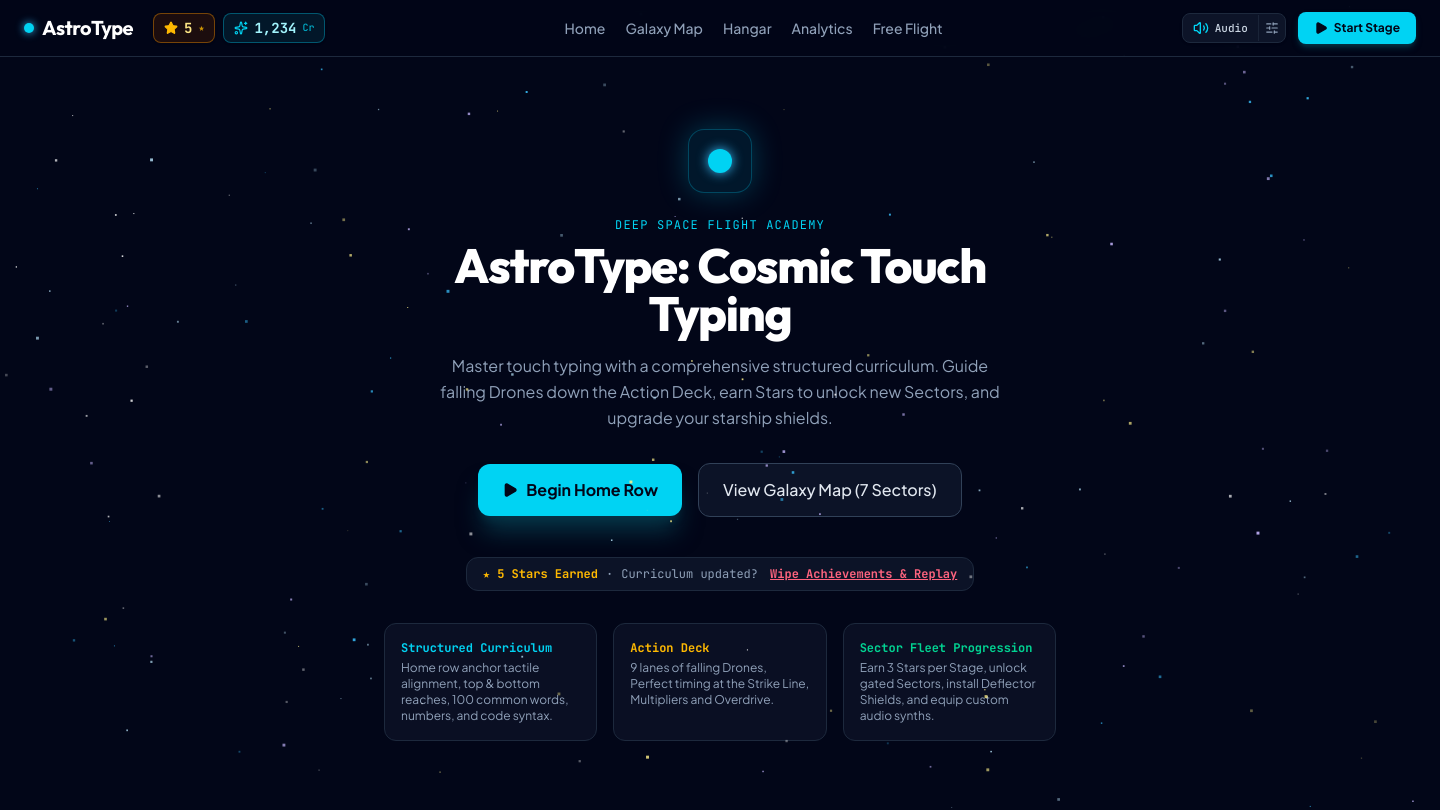
Test: Mute All Audio › mutes from the header, shows Muted in the panel, and Unmute brings the volumes back
The width and height of the screenshot is (1440, 810).
Click the button named "Open Audio Flight Deck Settings".
click(1271, 28)  # box x1=1258 y1=15 x2=1285 y2=41
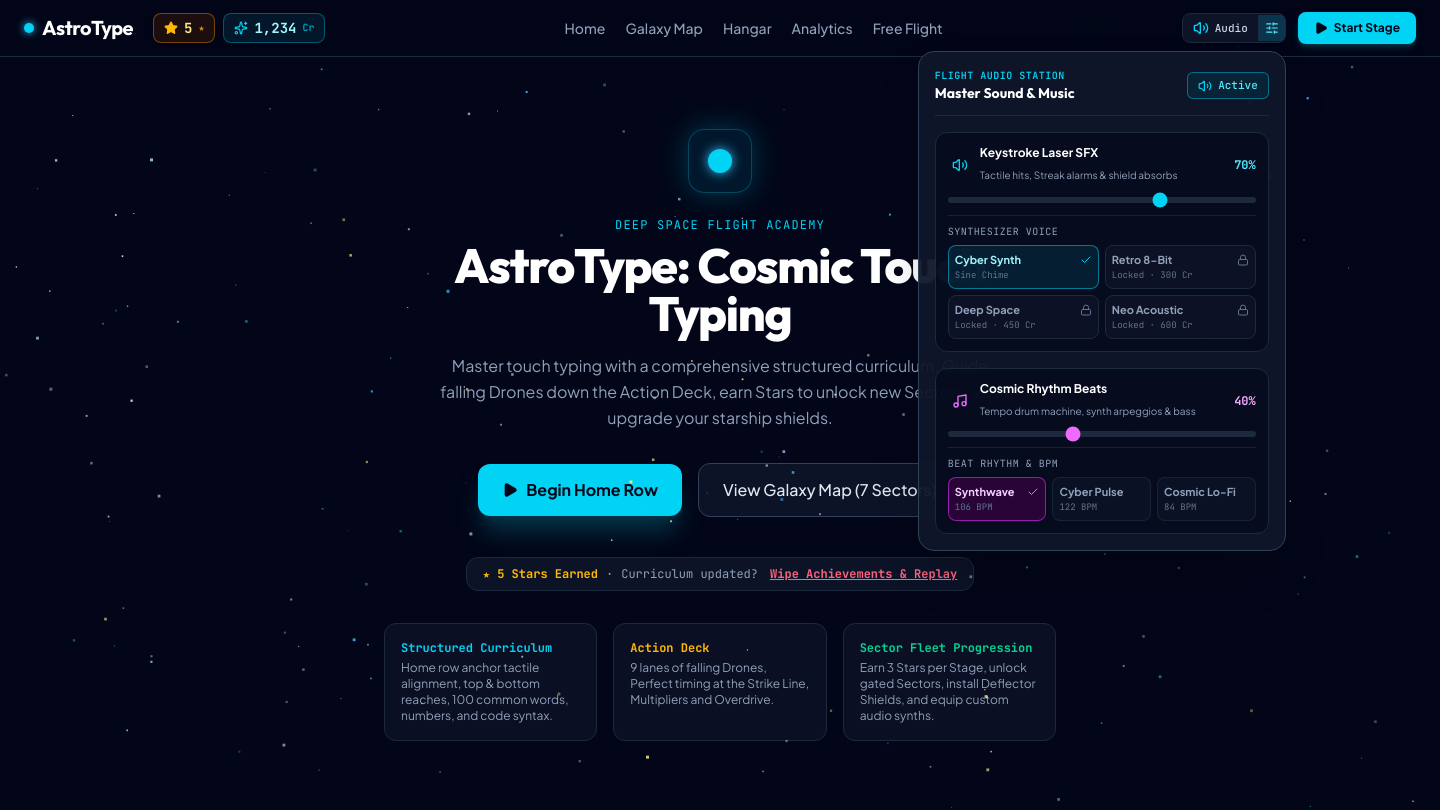
Click the button with aria-label "Mute All Audio".
click(1220, 28)  # box x1=1183 y1=14 x2=1258 y2=42
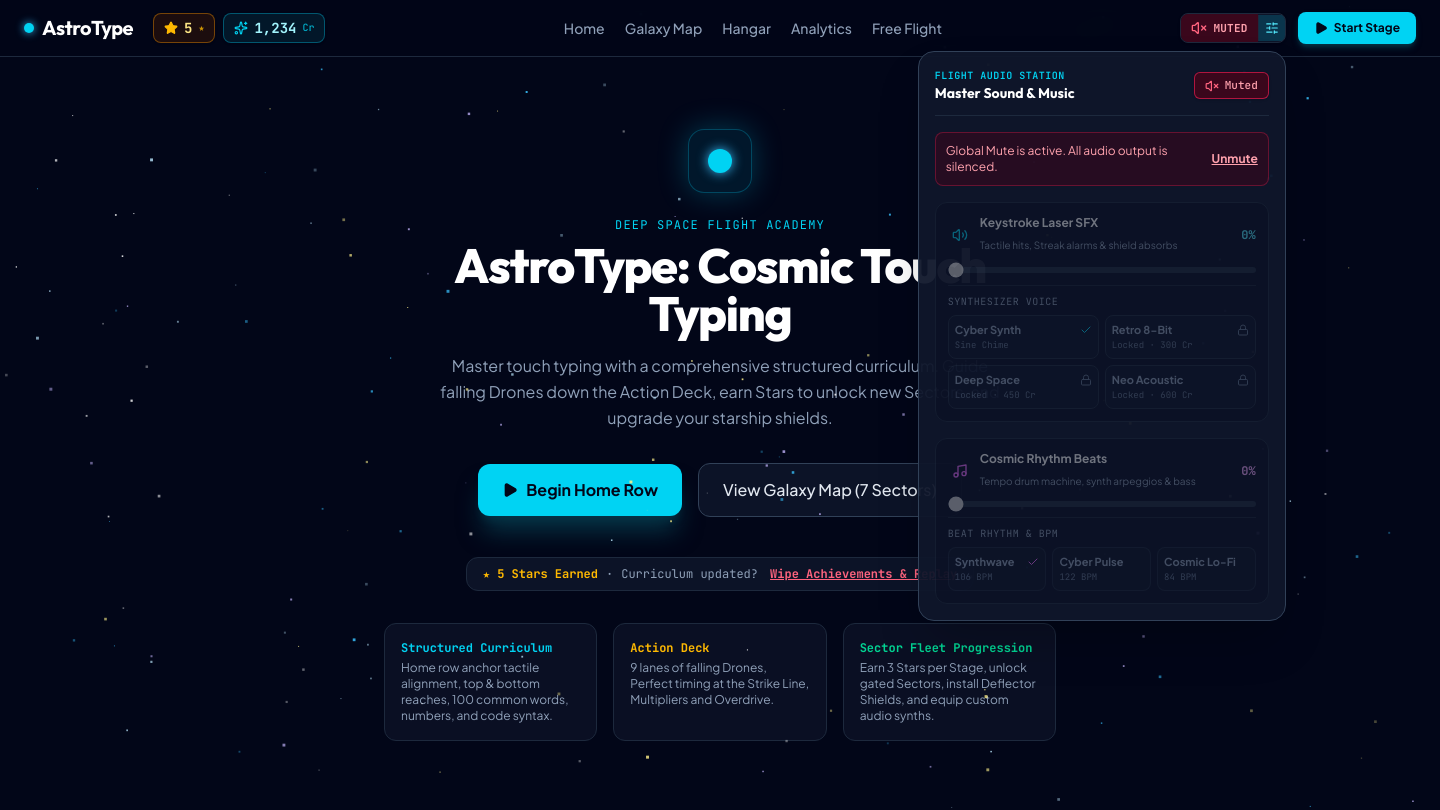
Check: the button with aria-label "Unmute All Audio" is shown, box x1=1181 y1=14 x2=1258 y2=42
Check: the text "Muted" is shown, box x1=1225 y1=77 x2=1258 y2=94
Click the button "Unmute".
click(1235, 159)  # box x1=1212 y1=151 x2=1258 y2=167
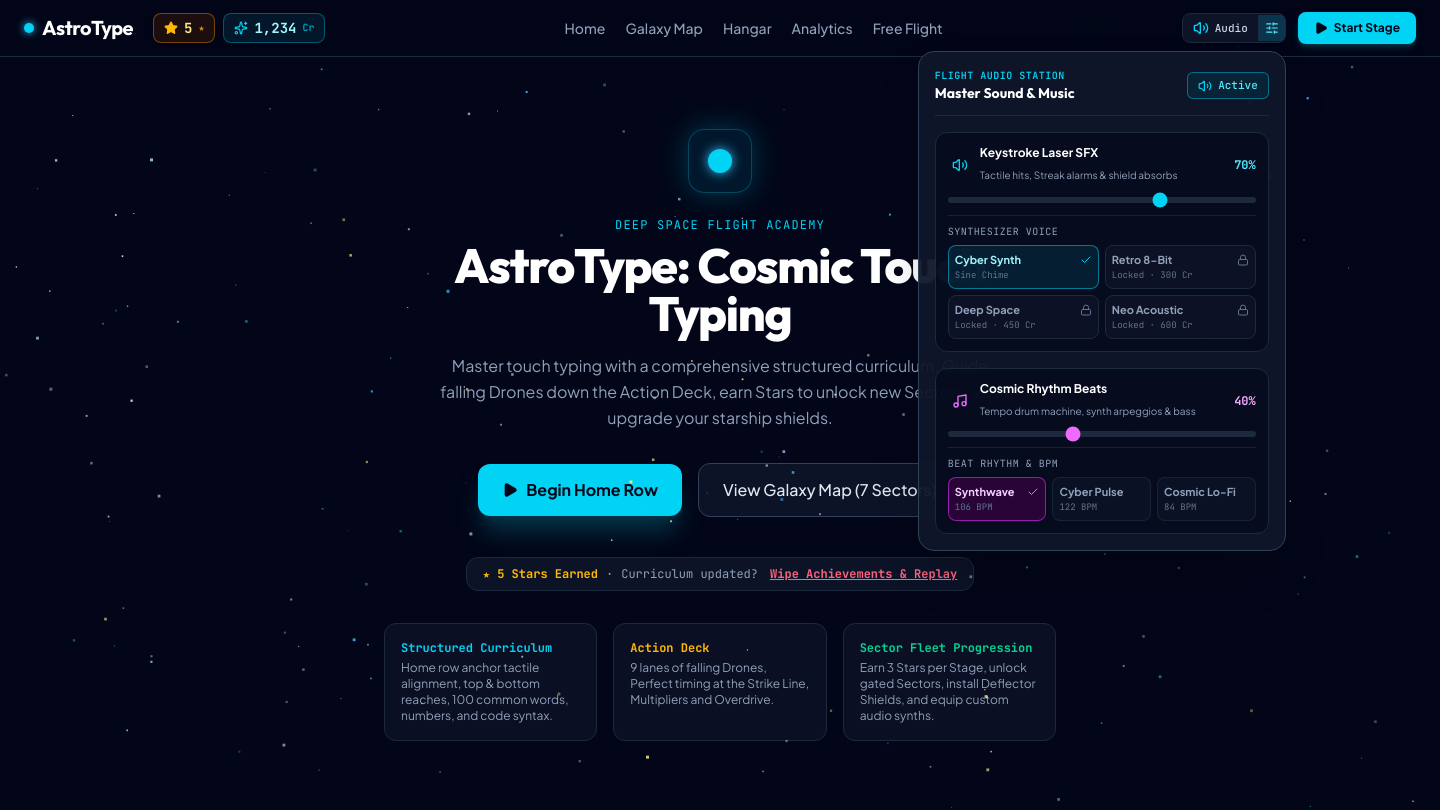
Check: the button with aria-label "Mute All Audio" is shown, box x1=1183 y1=14 x2=1258 y2=42
Check: the button "MUTED" is gone
